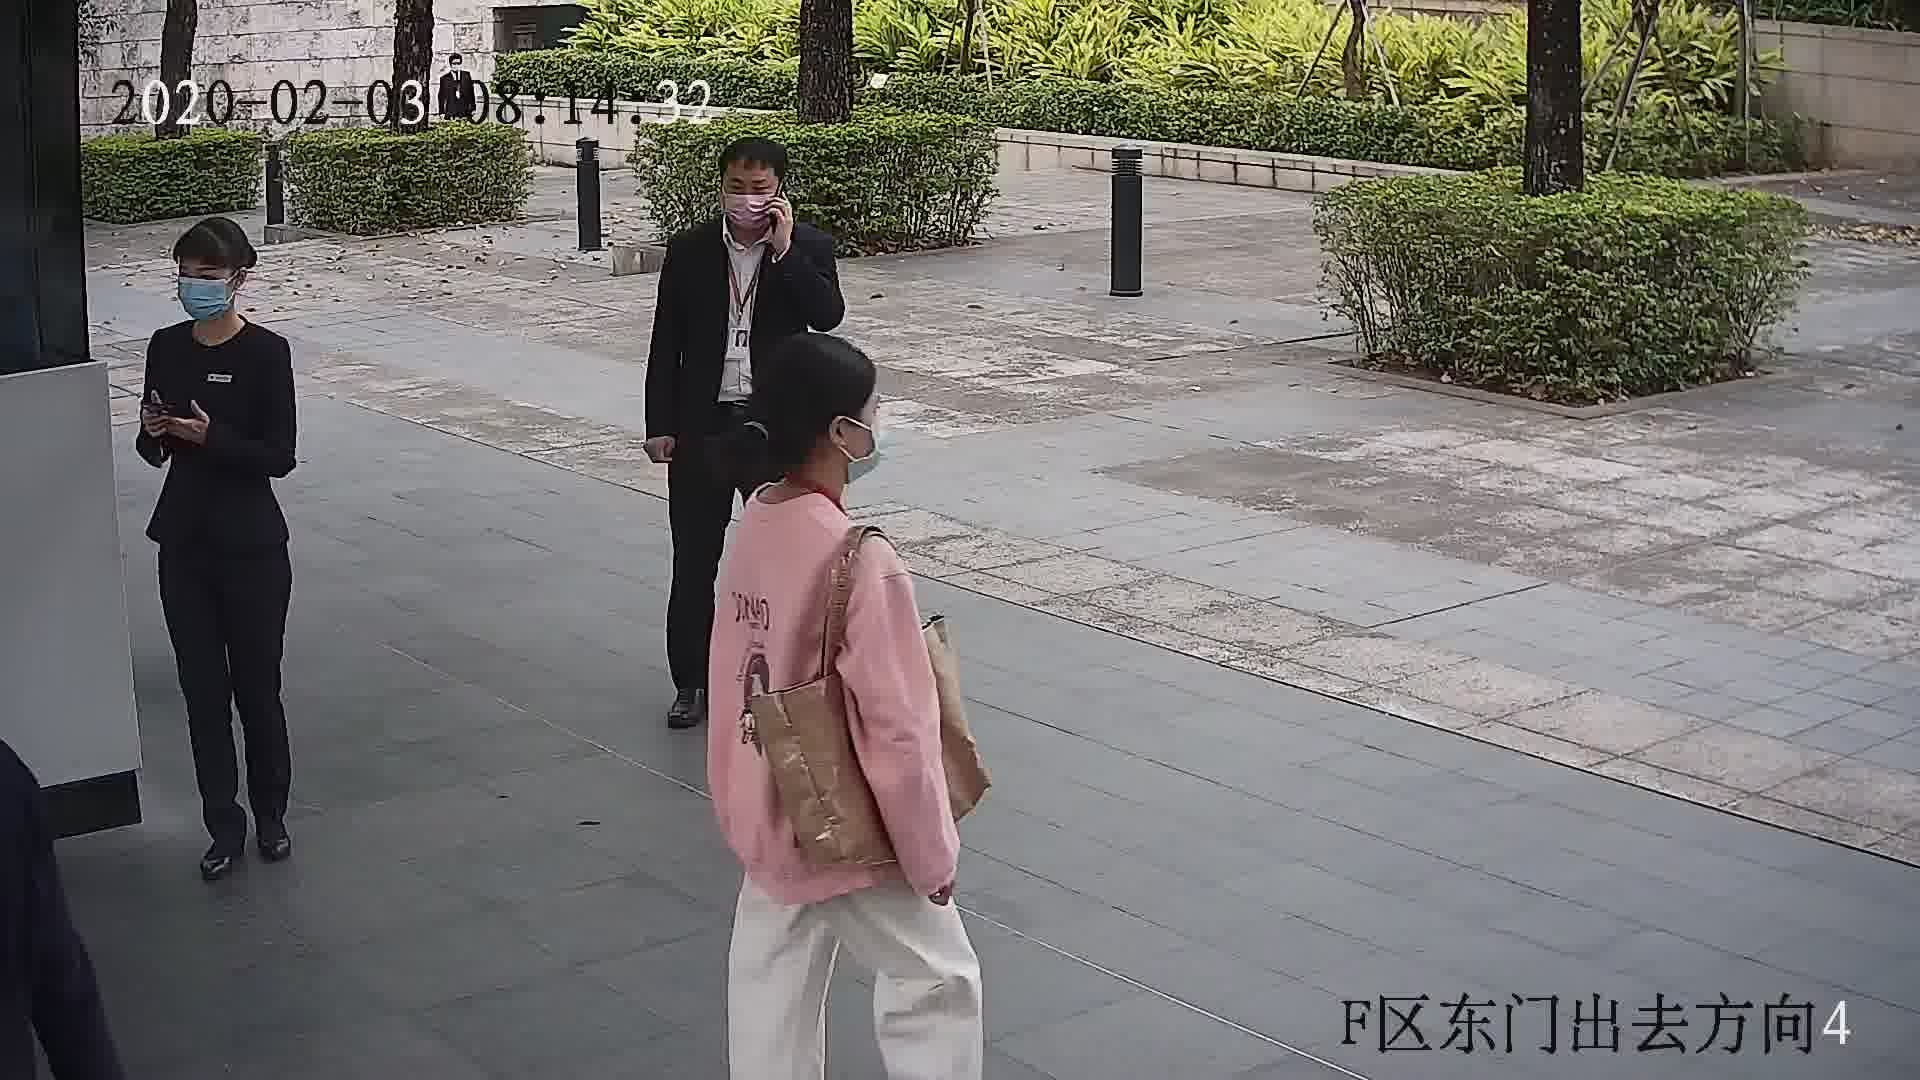face: (829, 385, 892, 485), (717, 170, 783, 236), (171, 253, 225, 319)
mask: (842, 427, 889, 485), (173, 273, 227, 319), (723, 191, 776, 233)
person: (720, 327, 909, 614), (662, 139, 832, 280), (142, 219, 286, 381)
